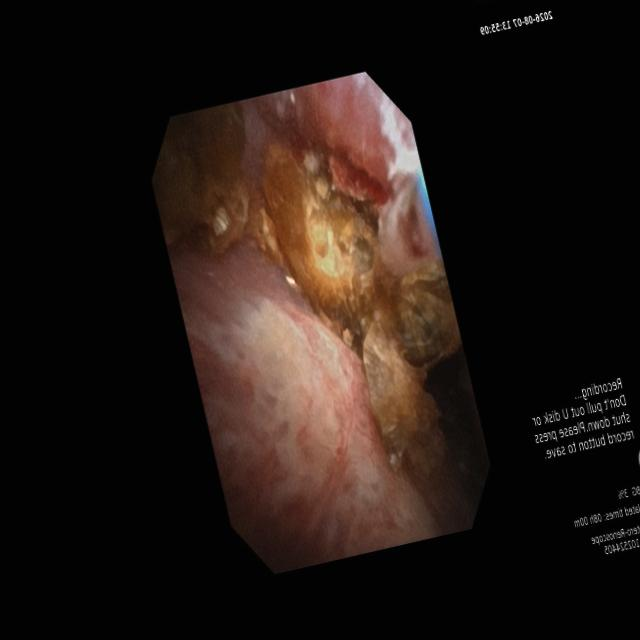laser-fibre: (378, 179, 438, 276)
stone-new: (264, 143, 460, 366), (363, 323, 444, 476)
